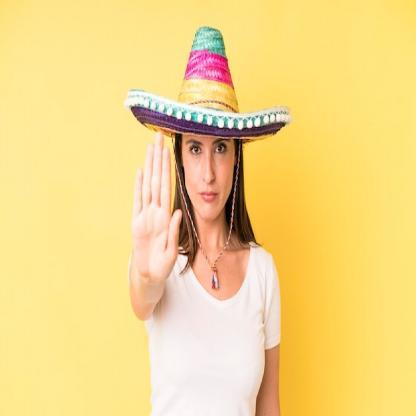stop: (132, 130, 182, 284)
